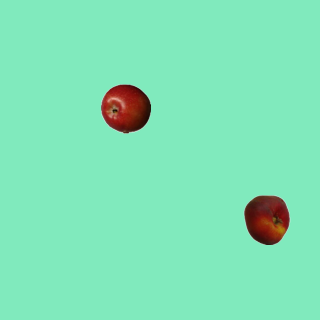Apple Braeburn: (100, 83, 150, 133)
Nectarine Flat: (241, 194, 291, 244)
